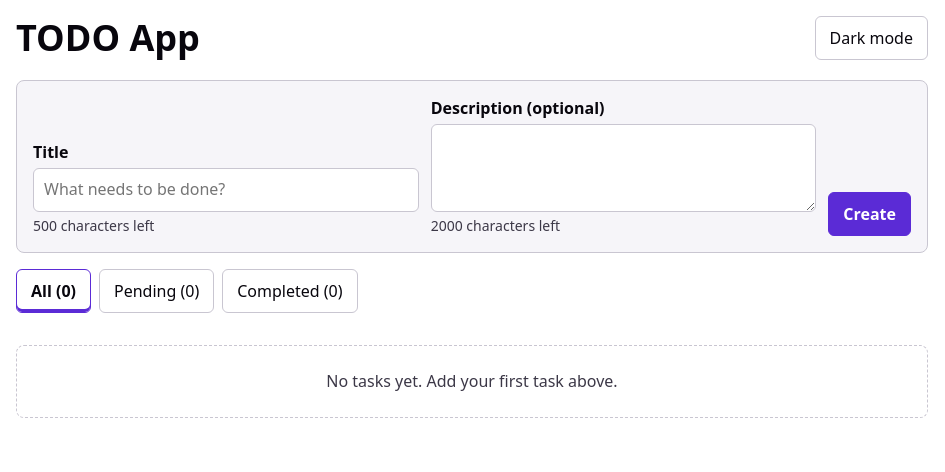
it: Feature: Task management (acceptance scenarios) › Scenario: Create task with title and description (FR1 / AC1) › shows the new task in the list with a timestamp ID and timestamps
# When the user enters a title and description and clicks Create
Type "Buy groceries" into the field with test id "task-title-input" at (226, 190), box left=33, top=168, right=419, bottom=212
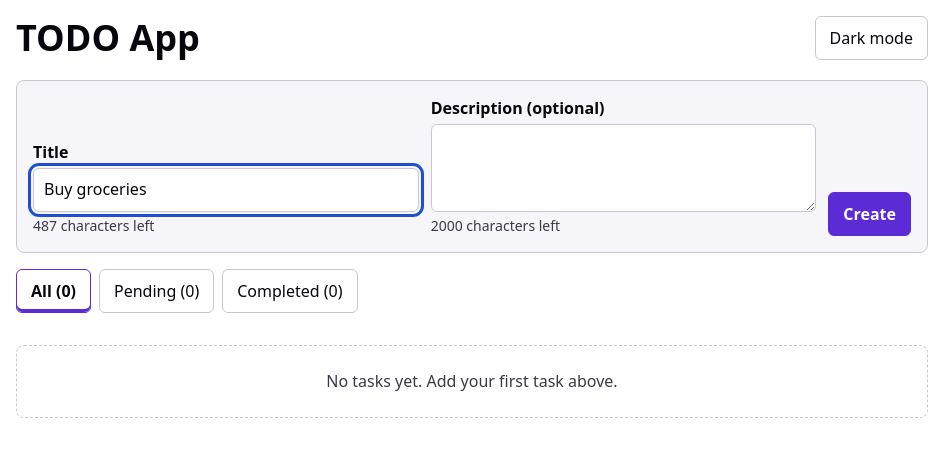
Type "Milk, bread" into the text box with test id "task-description-input" at (624, 168), box left=431, top=124, right=816, bottom=212
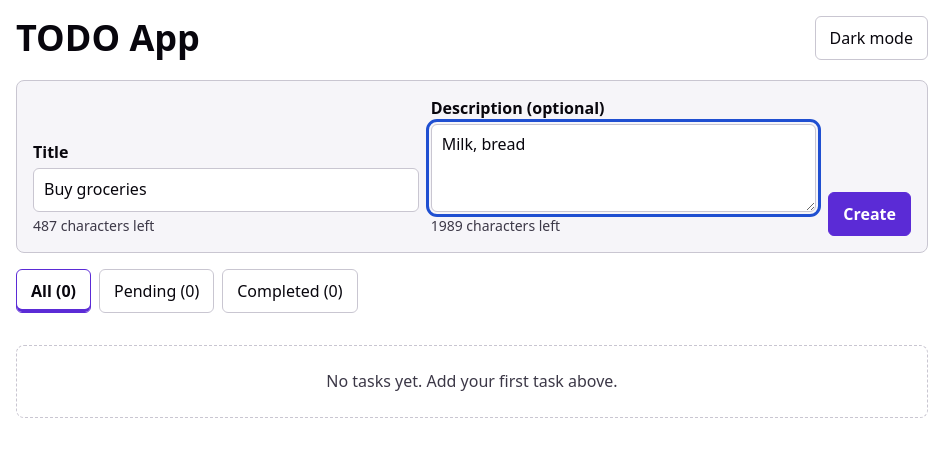
Click the button with test id "create-task-button" at (870, 214), box left=828, top=192, right=911, bottom=236
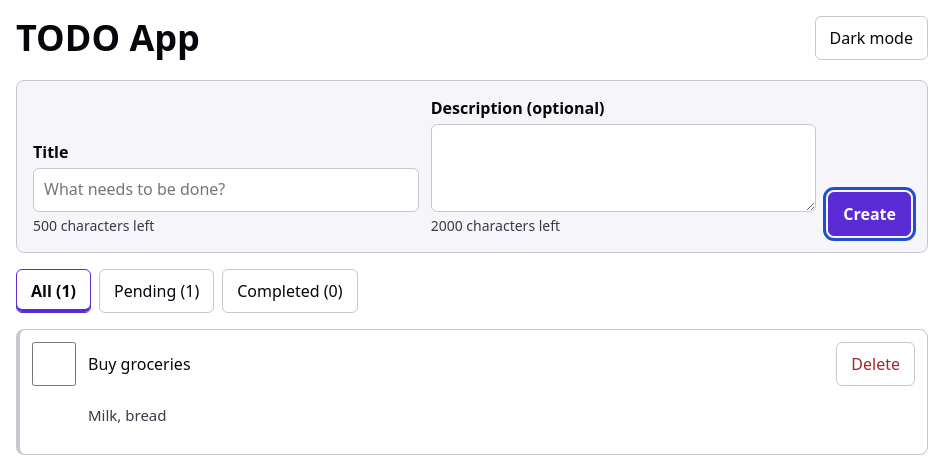
Expected: the button with test id "task-title" reads "Buy groceries", left=88, top=342, right=190, bottom=386
